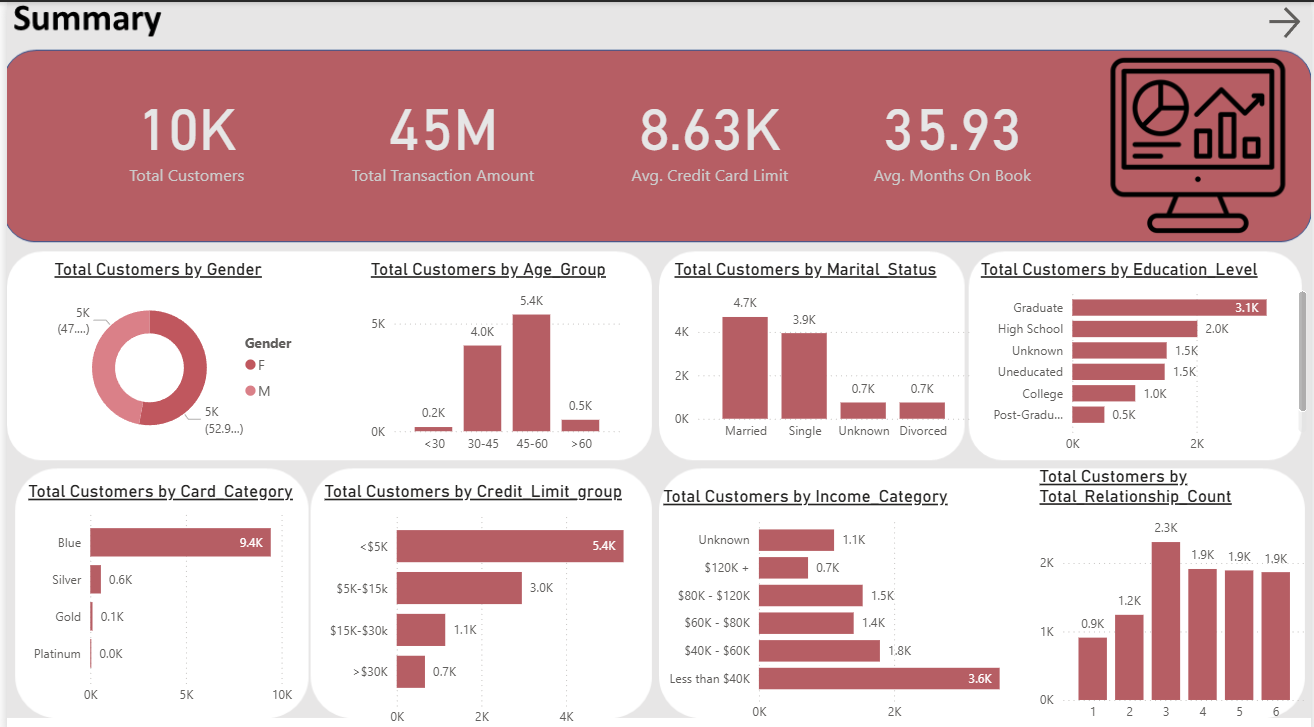

The dashboard page shown, as its layout file describes it:
{"tool":"powerbi","page":{"name":"Summary","canvas":[1280,720],"ordinal":0},"visuals":[{"type":"card","fields":{"Values":["measures (2).Total Customers"]},"box":[49.4,19.2,255.2,219.6],"z":0},{"type":"donutChart","fields":{"Category":["CreditCard_cleaned.Gender"],"Y":["measures (2).Total Customers"]},"box":[41.7,251.5,262.6,196.3],"z":1000},{"type":"clusteredColumnChart","fields":{"Category":["Age Group.Age_Group"],"Y":["measures (2).Total Customers"]},"box":[352.1,251.5,255.2,200],"z":2000},{"type":"clusteredBarChart","fields":{"Category":["Credit Group.Credit_group"],"Y":["measures (2).Total Customers"]},"box":[306.8,469.9,332.5,250.3],"z":3000},{"type":"clusteredColumnChart","fields":{"Y":["measures (2).Total Customers"],"Category":["CreditCard_cleaned.Marital_Status"]},"box":[650.3,251.5,300.6,187.7],"z":4000},{"type":"clusteredBarChart","fields":{"Category":["CreditCard_cleaned.Card_Category"],"Y":["measures (2).Total Customers"]},"box":[16,469.9,278.5,228.2],"z":5000},{"type":"clusteredBarChart","fields":{"Category":["CreditCard_cleaned.Education_Level"],"Y":["measures (2).Total Customers"]},"box":[950.9,251.5,328.8,200],"z":6000},{"type":"card","fields":{"Values":["measures (2).Avg. Credit Card Limit"]},"box":[539.3,19.2,300.5,219.6],"z":7000},{"type":"card","fields":{"Values":["measures (2).Avg. Months On Book"]},"box":[771.2,19.2,312.9,219.6],"z":8000},{"type":"card","fields":{"Values":["measures (2).Total Transaction Amount"]},"box":[318.4,19.2,220.9,219.6],"z":9000},{"type":"clusteredColumnChart","fields":{"Category":["realtionship_sort.Total_Relationship_Count"],"Y":["measures (2).Total Customers"]},"box":[1008.6,455.2,271.2,260.1],"z":10000},{"type":"clusteredBarChart","fields":{"Category":["Income sort.Income_Category"],"Y":["measures (2).Total Customers"]},"box":[639.3,474.8,369.3,240.5],"z":11000},{"type":"actionButton","box":[1233.1,0,46.6,40.5],"z":12000}]}

Visuals, with their boxes in screenshot pixels (x1, y1, x2, y2), scaled from the page's 1280x720 canvas onto the 1314x727 screenshot:
card - measures (2).Total Customers: detection(51, 19, 313, 241)
donutChart - CreditCard_cleaned.Gender x measures (2).Total Customers: detection(43, 254, 312, 452)
clusteredColumnChart - Age Group.Age_Group x measures (2).Total Customers: detection(361, 254, 623, 456)
clusteredBarChart - Credit Group.Credit_group x measures (2).Total Customers: detection(315, 474, 656, 726)
clusteredColumnChart - measures (2).Total Customers x CreditCard_cleaned.Marital_Status: detection(668, 254, 976, 443)
clusteredBarChart - CreditCard_cleaned.Card_Category x measures (2).Total Customers: detection(16, 474, 302, 705)
clusteredBarChart - CreditCard_cleaned.Education_Level x measures (2).Total Customers: detection(976, 254, 1313, 456)
card - measures (2).Avg. Credit Card Limit: detection(554, 19, 862, 241)
card - measures (2).Avg. Months On Book: detection(792, 19, 1113, 241)
card - measures (2).Total Transaction Amount: detection(327, 19, 554, 241)
clusteredColumnChart - realtionship_sort.Total_Relationship_Count x measures (2).Total Customers: detection(1035, 460, 1313, 722)
clusteredBarChart - Income sort.Income_Category x measures (2).Total Customers: detection(656, 479, 1035, 722)
actionButton: detection(1266, 0, 1313, 41)
